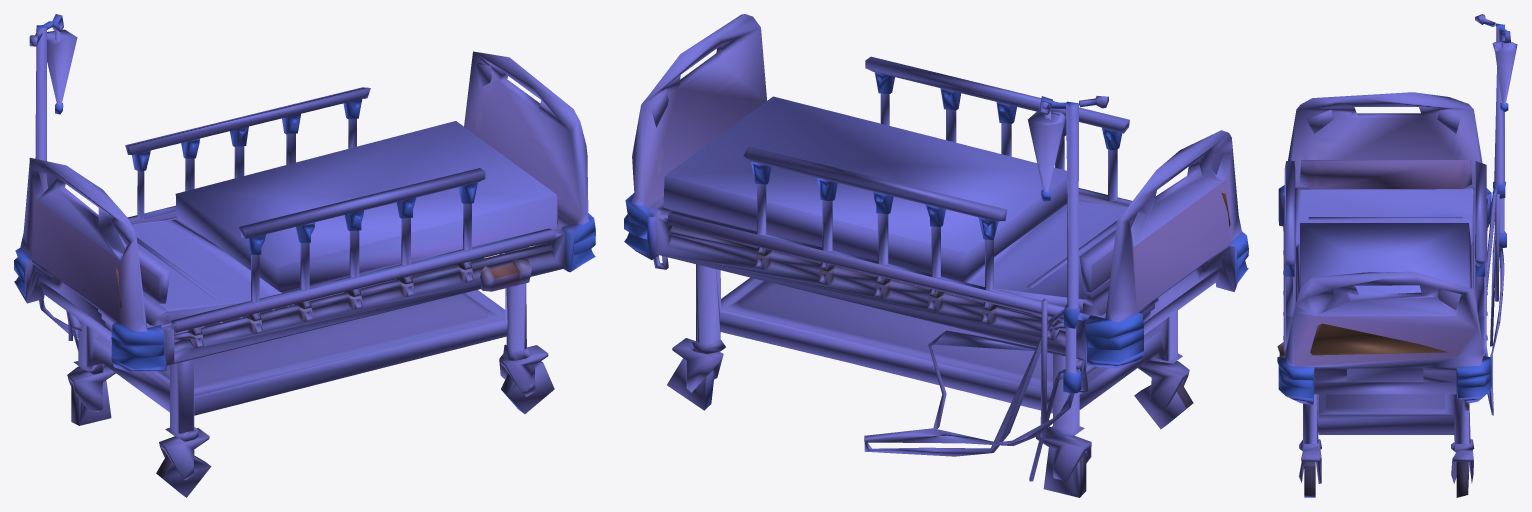
The model's file is model.progressive.glb.
3 views of the same model, side by side, from view 1: azimuth 30°, elevation 25°; view 2: azimuth 150°, elevation 25°; view 3: azimuth 270°, elevation 25° (orthographic). The views are drawn at different scales.
Visible parts, largest first — view 1: material; view 2: material; view 3: material.
Boxes of the visible parts, x1,y1,x2,y2 form: material: (14, 14, 595, 497); material: (624, 14, 1248, 497); material: (1277, 14, 1517, 497).
Bounding box in the file's own units: 1.9 × 1.51 × 1.
Materials: 1 (1 with a texture image).
